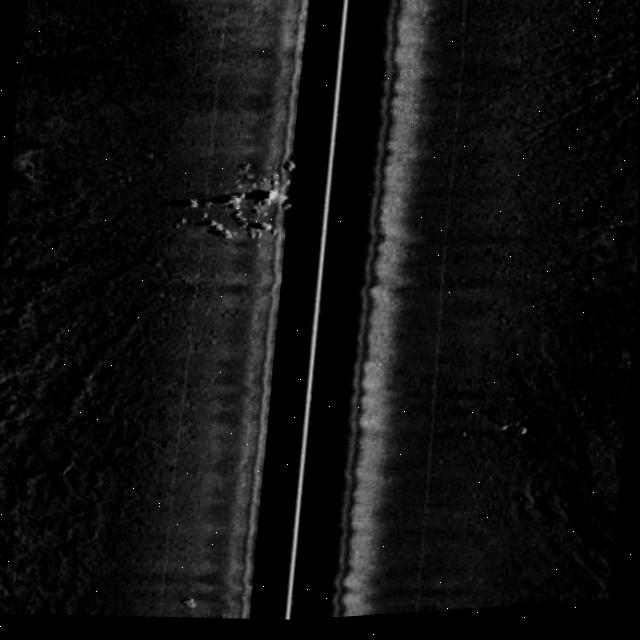mine: (36, 456, 80, 479)
